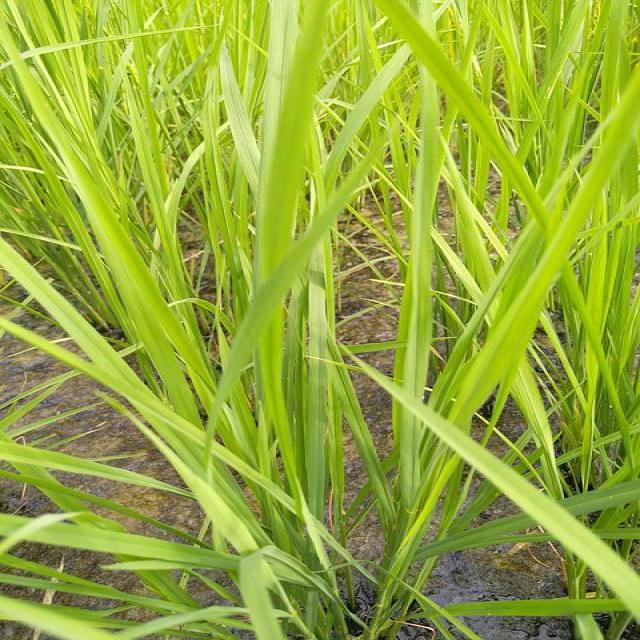Rice: (423, 197, 571, 426), (257, 0, 304, 565), (114, 221, 217, 422), (570, 189, 640, 477), (398, 93, 438, 505), (0, 235, 112, 381), (33, 73, 131, 226), (0, 518, 241, 573), (0, 436, 203, 498), (302, 226, 334, 543), (572, 89, 635, 190), (216, 38, 258, 181), (127, 97, 170, 220), (402, 597, 640, 616)
